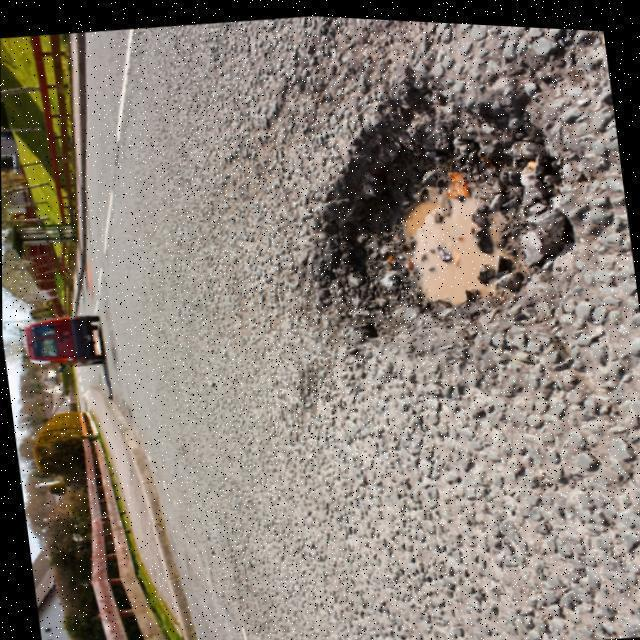Pothole: (307, 67, 580, 343)
